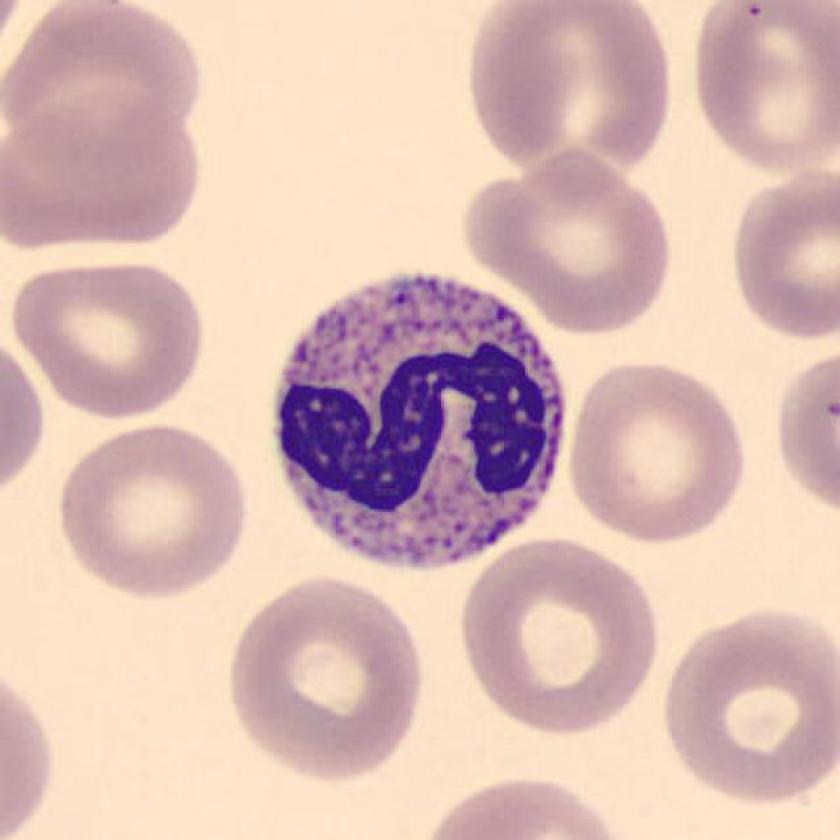neutrophil: (275, 275, 563, 568)
